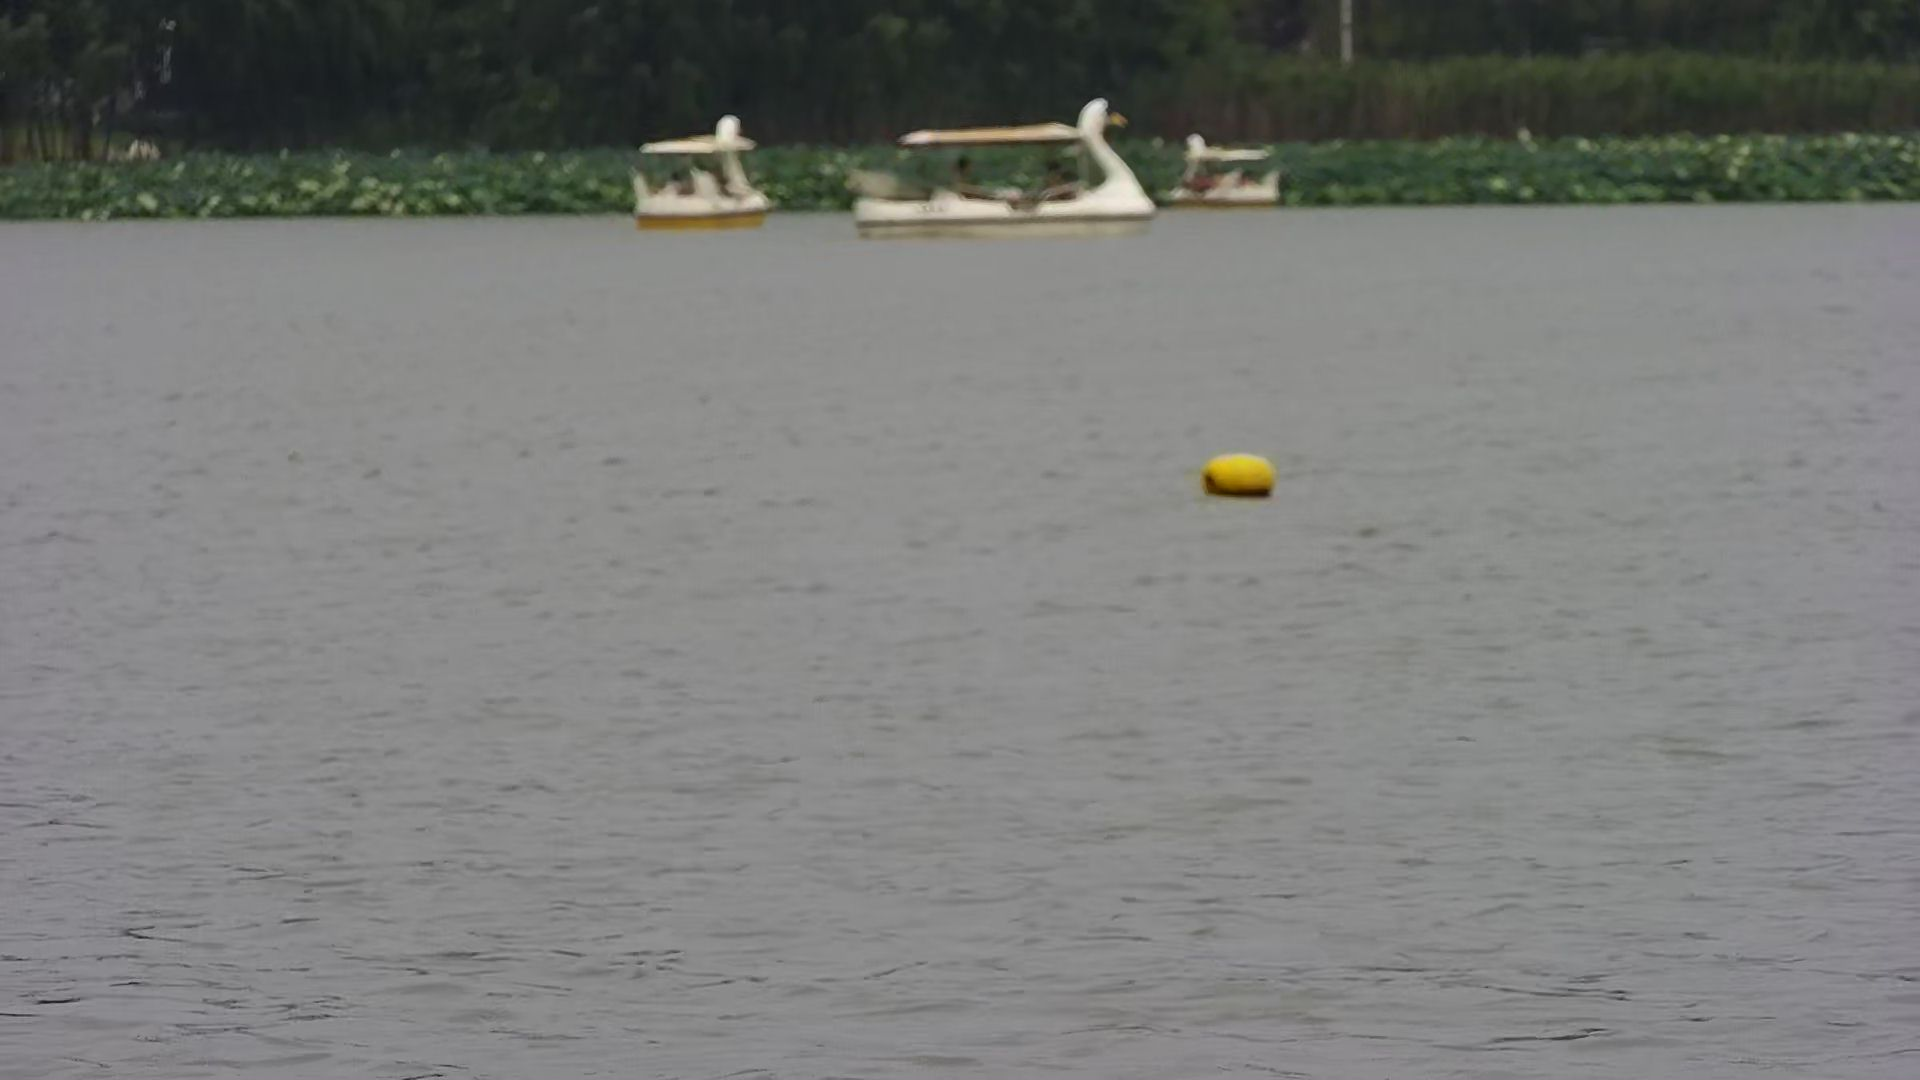boat: (847, 88, 1159, 235), (615, 115, 779, 228)
rubbish: (1195, 448, 1288, 500)
